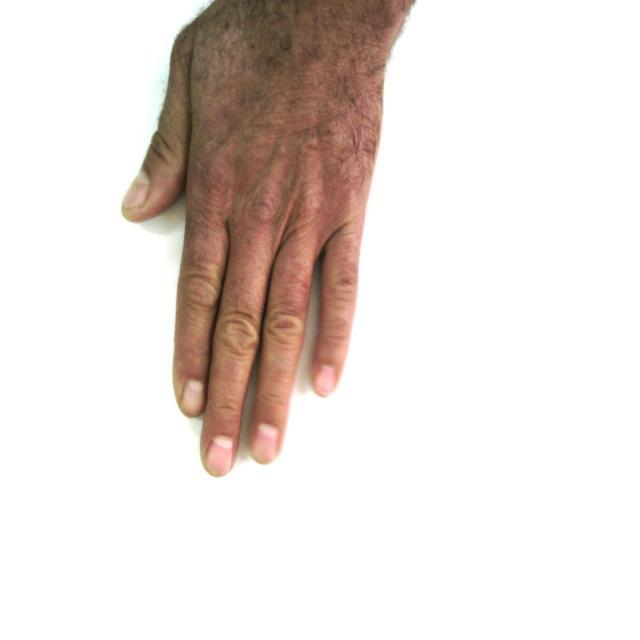Fingernail: (207, 438, 234, 476), (253, 424, 278, 464), (123, 173, 149, 208), (182, 381, 204, 416), (315, 366, 336, 396)
